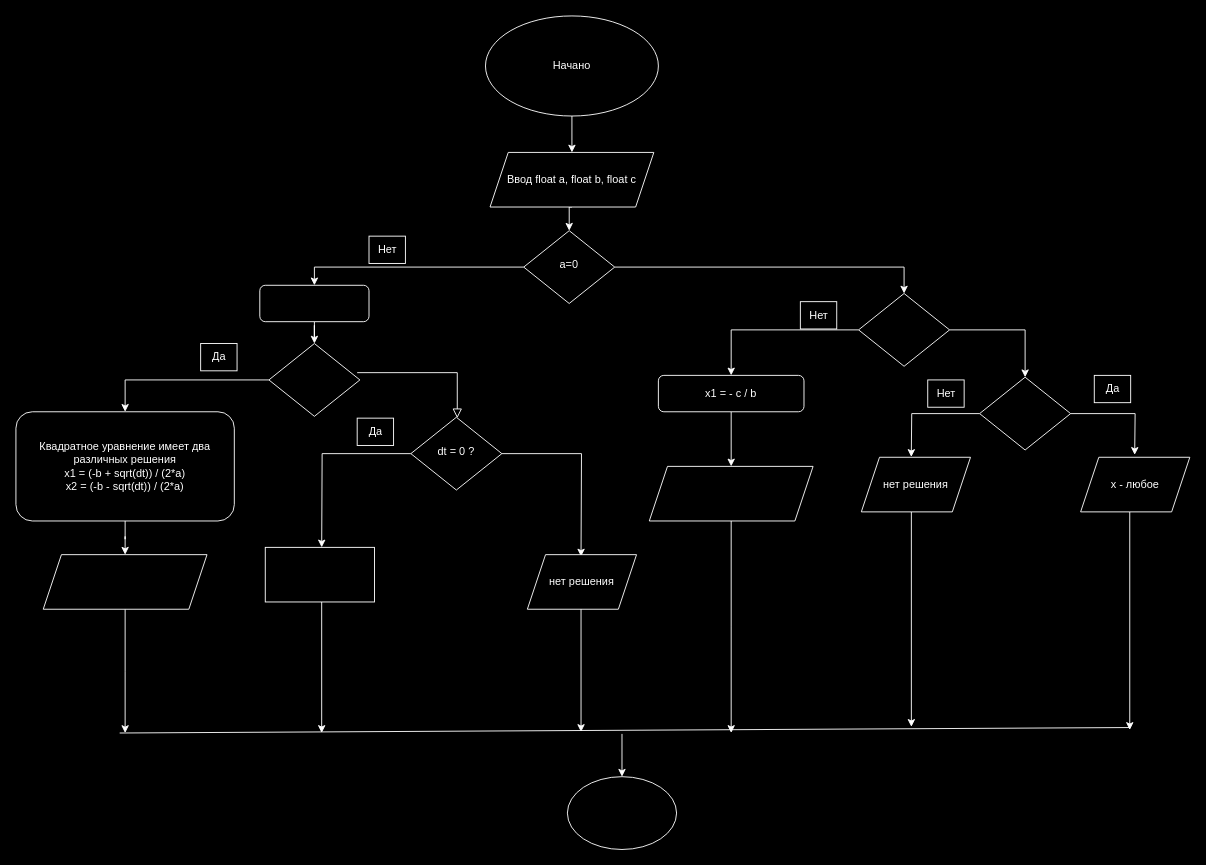
This 1206x865 diagram has some shape labels left out. The shapes that lost their labels are listed below. From the top down, each one's box as (x1, y1, x2, y2) in pixels, then its label:
(259, 284, 369, 322): dt = b*b - 4*a*c
(858, 293, 950, 366): b=0 ?
(268, 343, 360, 416): dt > 0 ?
(979, 376, 1071, 450): с=0 ?
(648, 465, 813, 521): x1
(42, 554, 207, 609): x1, x2
(264, 546, 374, 602): Уравнение имеет двойное решение x = -b/(2*a)
(566, 776, 677, 849): Конец
